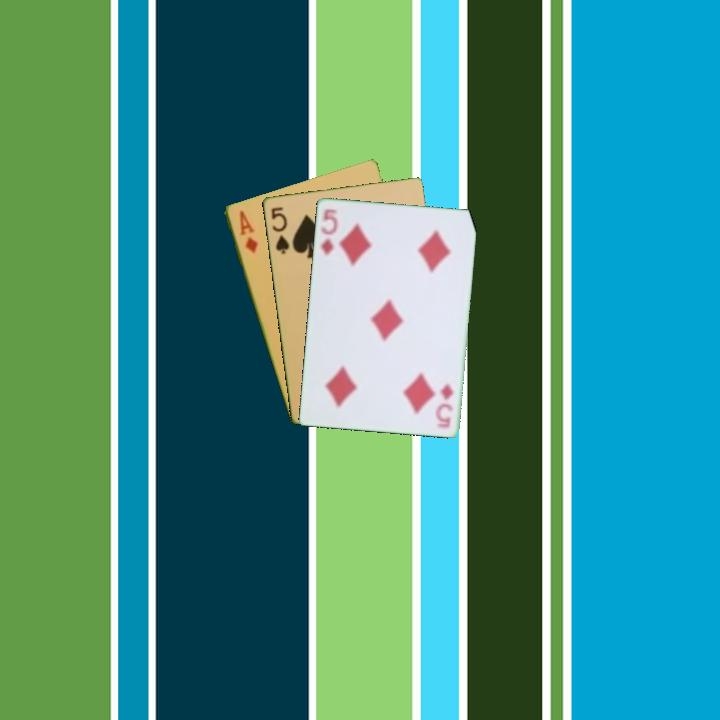5d: (317, 205, 341, 257), (434, 380, 456, 430)
5s: (267, 203, 292, 257)
Ad: (235, 207, 260, 256)
